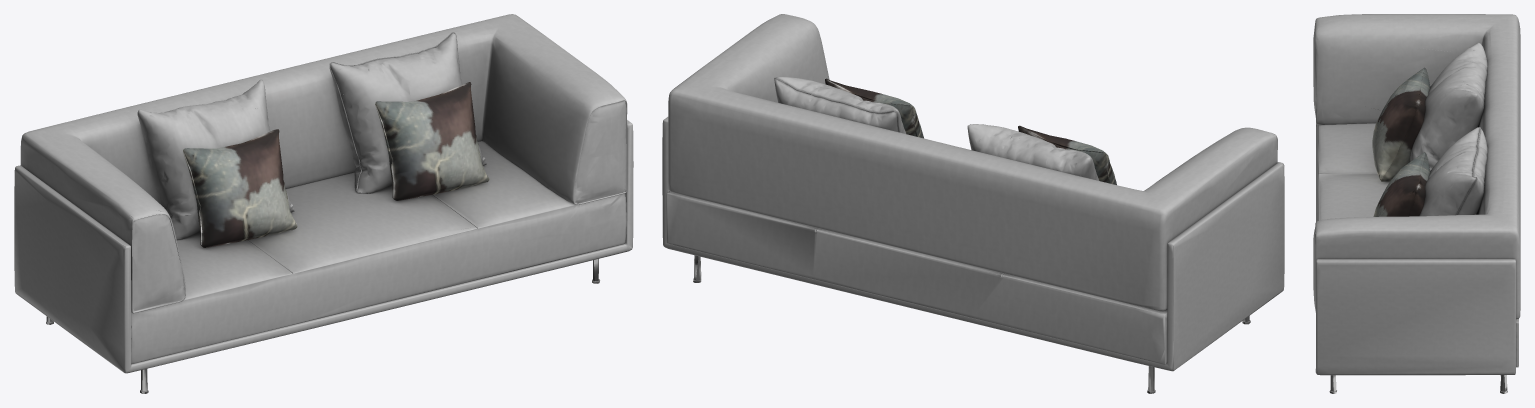
The model's file is raw_model.obj.
3 views of the same model, side by side, from view 1: azimuth 30°, elevation 25°; view 2: azimuth 150°, elevation 25°; view 3: azimuth 270°, elevation 25° (orthographic). The views are drawn at different scales.
Parts seen in each view (by area): view 1: solid_001, solid_002; view 2: solid_001, solid_002; view 3: solid_001, solid_002, solid_003, solid_004.
Boxes of the visible parts, bbox=[...] form: solid_001: bbox=[14, 14, 633, 373]; solid_002: bbox=[183, 82, 489, 247]; solid_001: bbox=[662, 14, 1284, 371]; solid_002: bbox=[825, 78, 1116, 184]; solid_001: bbox=[1313, 14, 1520, 375]; solid_002: bbox=[1372, 67, 1430, 216]; solid_003: bbox=[1329, 375, 1507, 393]; solid_004: bbox=[1456, 127, 1480, 214].
Bounding box in the file's own units: 1.77 × 0.6884 × 0.6929.
Materials: 1 (1 with a texture image).
